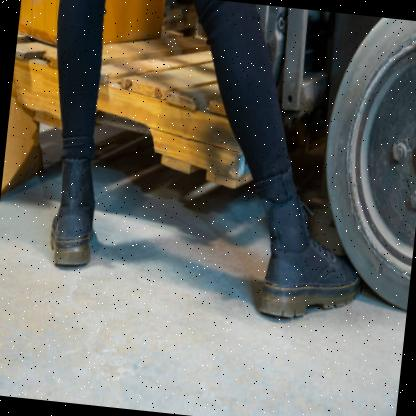bota: (242, 160, 377, 329), (45, 149, 105, 274)
